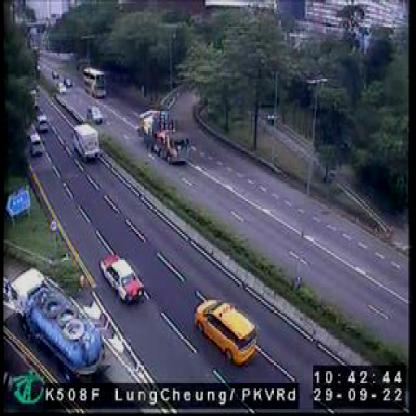Bus: (79, 64, 109, 99)
Car: (192, 293, 262, 366), (96, 248, 148, 301), (70, 119, 100, 160), (82, 102, 108, 127), (26, 133, 44, 156), (36, 112, 52, 134), (54, 82, 68, 97), (64, 76, 74, 88)
Truck: (5, 265, 117, 385), (136, 106, 188, 164)
